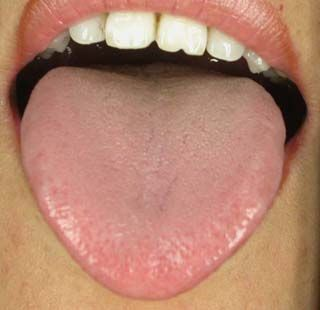baitaishe: (21, 61, 286, 299)
